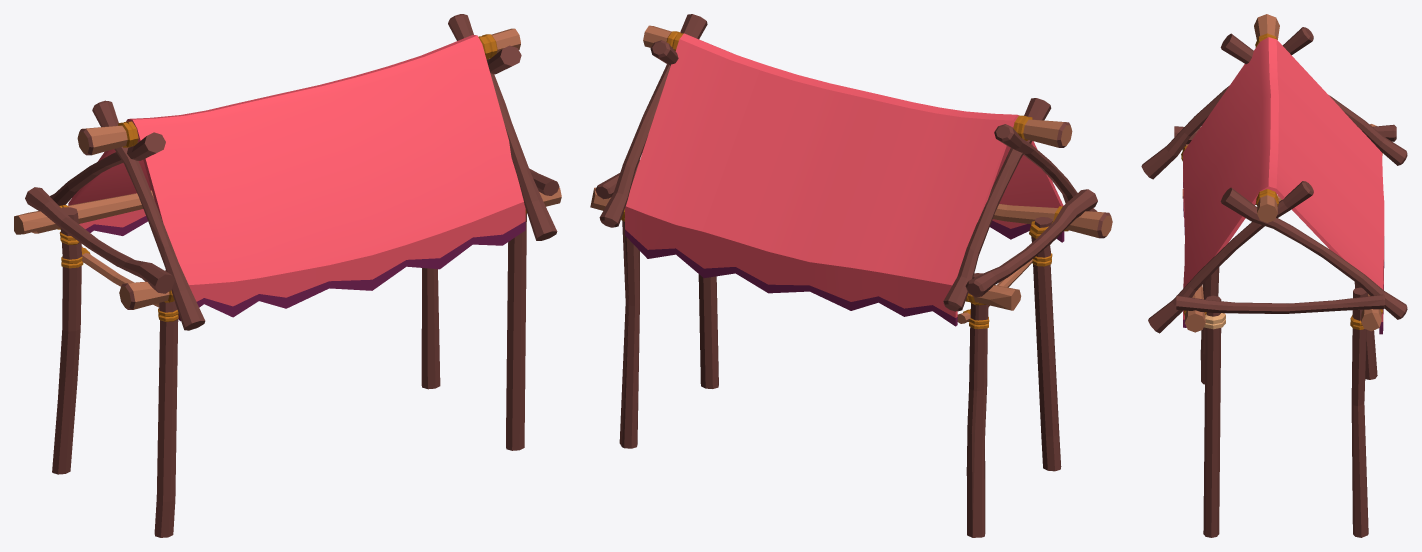
Rendered from Canopy 05.fbx.
The picture shows the model from 3 angles, left to right: view 1: azimuth 30°, elevation 25°; view 2: azimuth 150°, elevation 25°; view 3: azimuth 270°, elevation 25°; orthographic projection. The views are drawn at different scales.
Parts seen in each view (by area): view 1: Canopy 05; view 2: Canopy 05; view 3: Canopy 05.
Part boxes in pixels (left/top/right/bottom): Canopy 05: left=14, top=14, right=561, bottom=537; Canopy 05: left=590, top=14, right=1112, bottom=537; Canopy 05: left=1141, top=14, right=1407, bottom=537.
Size of the model in its own units: 474 by 408 by 281.
